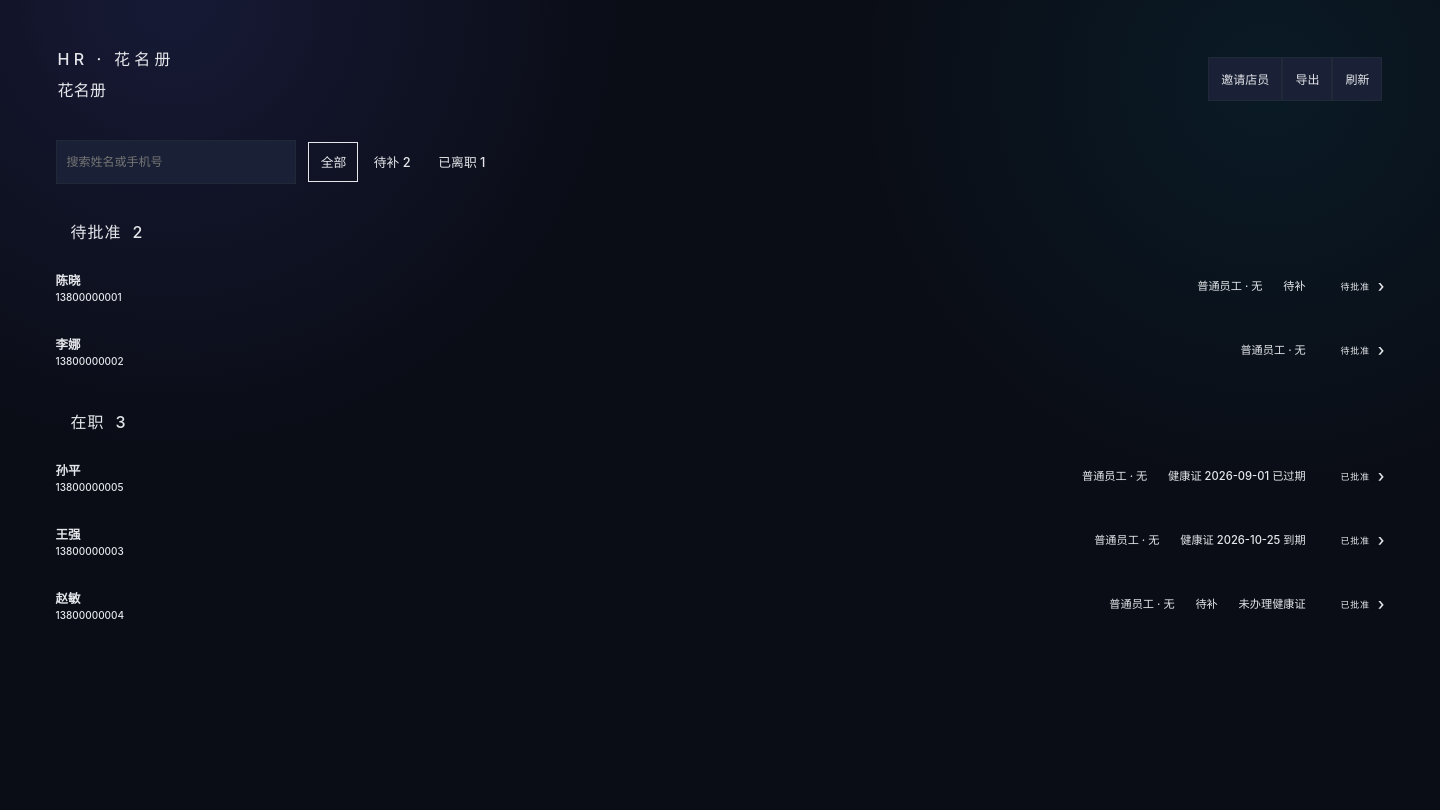
Test: 花名册 · 编辑抽屉 › 没有改动时「保存」不可点（title 说明原因），改一格就可用
This screenshot has width=1440, height=810.
Click the button with class "roster-row" that starts with "普通员工 · 无".
click(90, 551)  # box [42,508,1398,572]
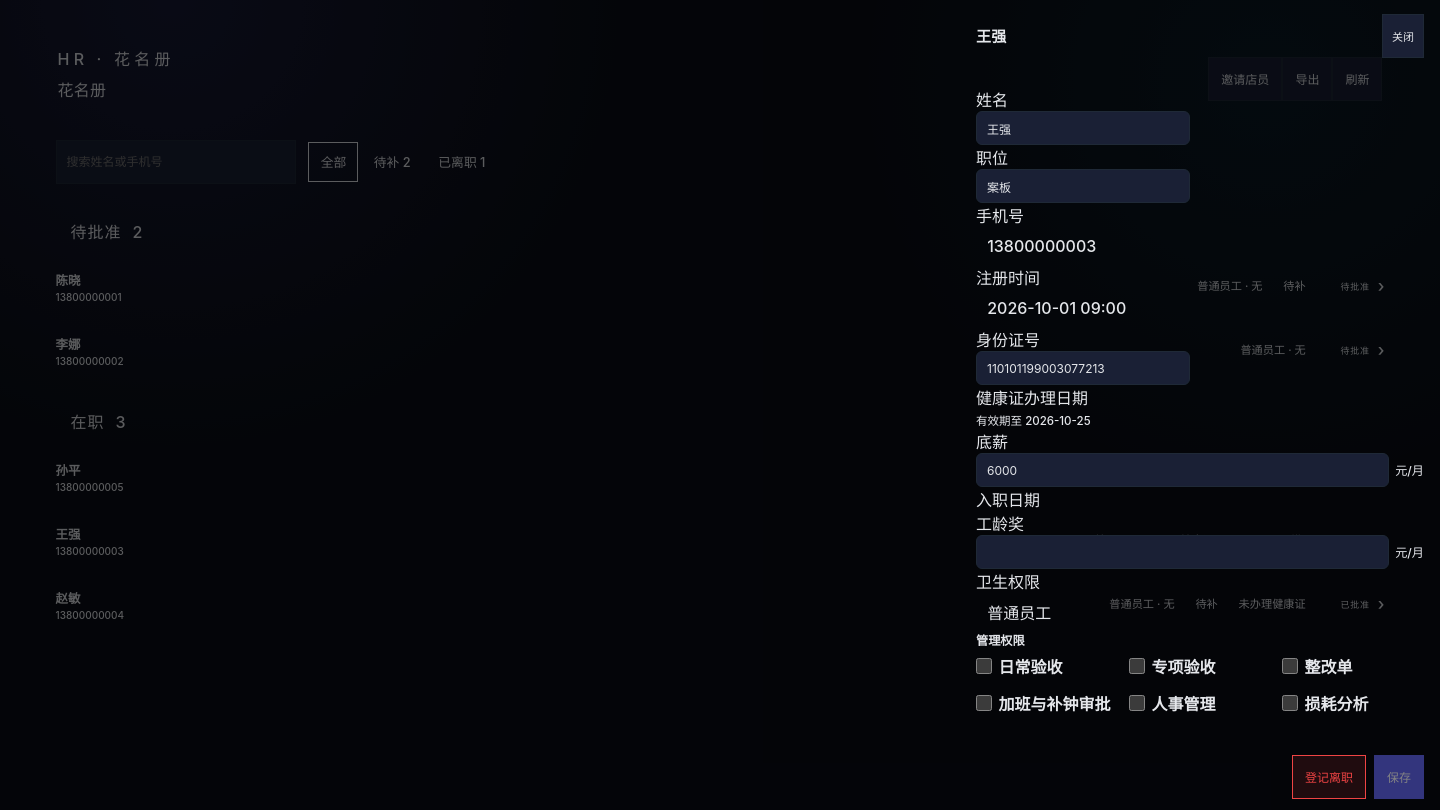
Check: the button "保存" is disabled, box [1374,755,1424,799]
Replace the text in the field labelled "姓名" with "王强强" at {"x": 1083, "y": 128}, box [976,111,1190,145]
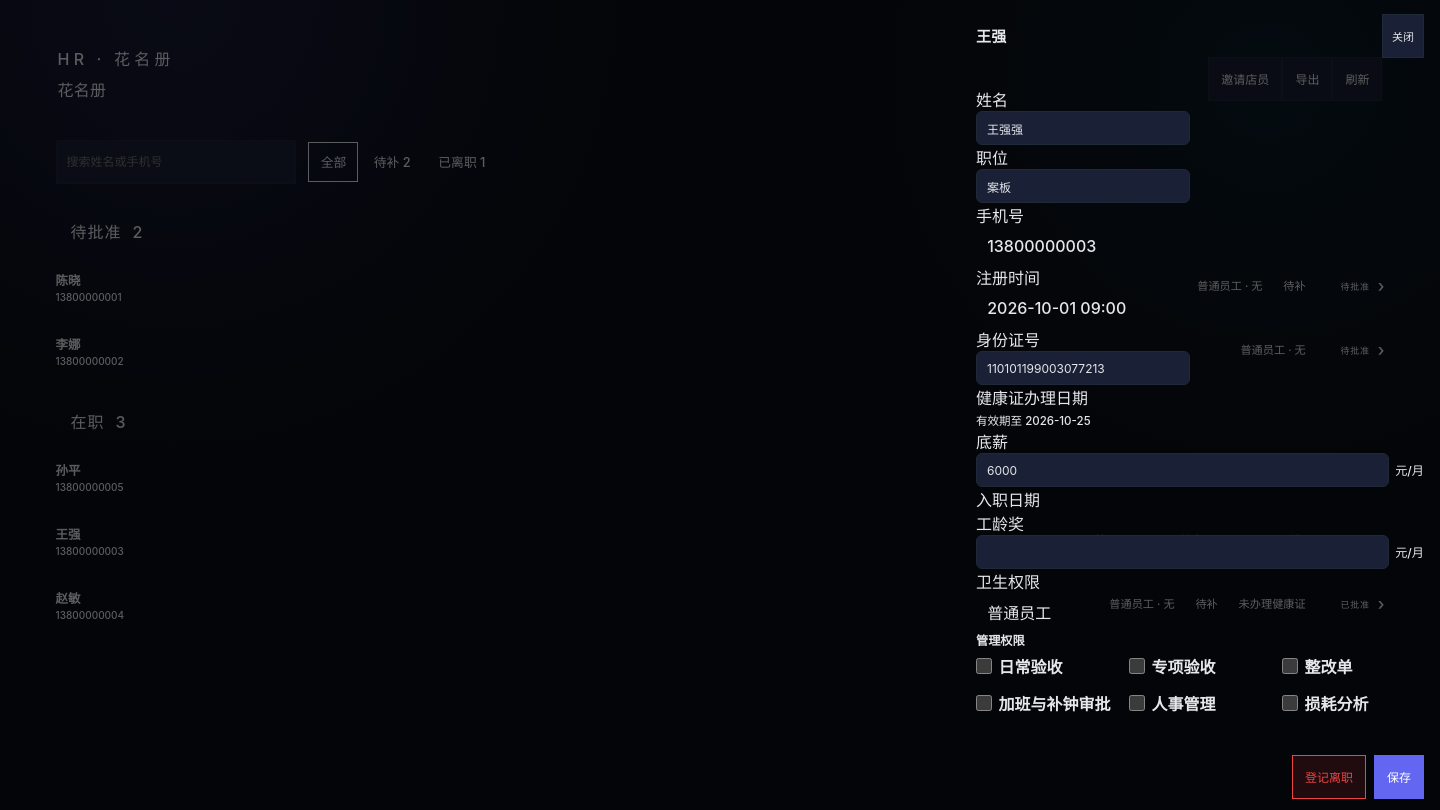
Check: the button "保存" is enabled, box [1374,755,1424,799]
